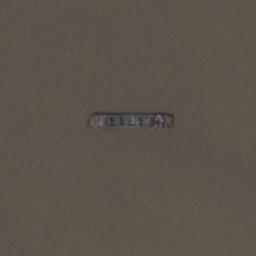boat: (84, 112, 176, 132)
